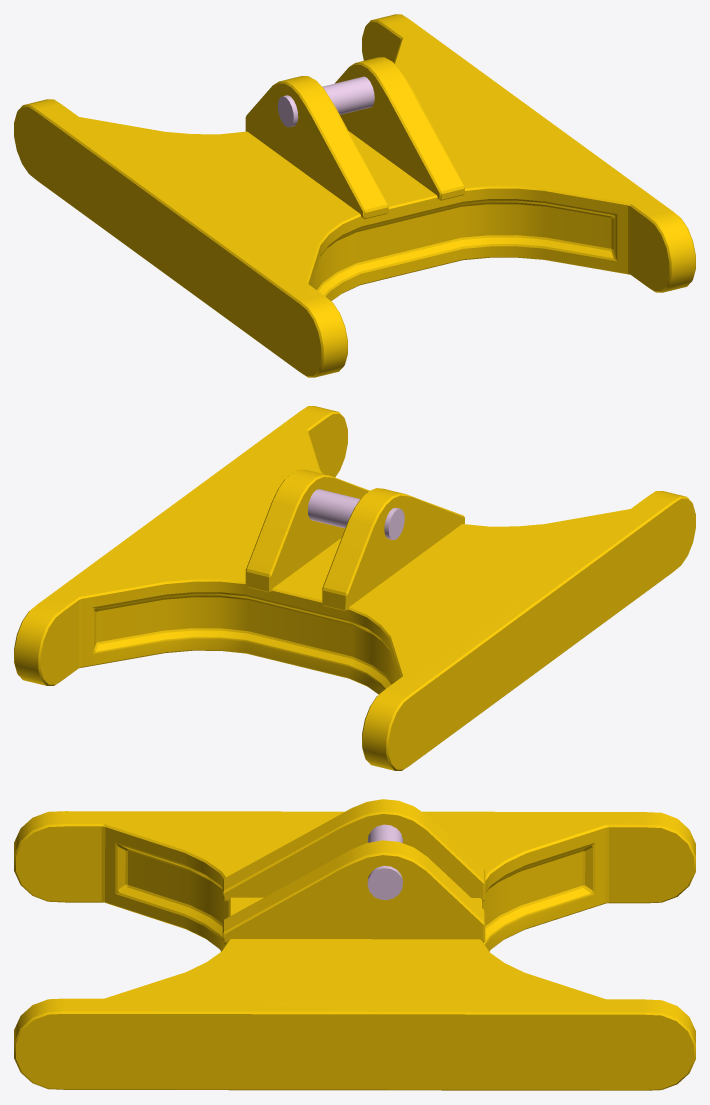
The model's file is Earthmover_Body_RipperPartA_01a_snaps005.fbx.
3 views of the same model, one above another, from view 1: azimuth 30°, elevation 25°; view 2: azimuth 150°, elevation 25°; view 3: azimuth 270°, elevation 25° (orthographic). The views are drawn at different scales.
Parts seen in each view (by area): view 1: Earthmover_Body_06a_snaps005; view 2: Earthmover_Body_06a_snaps005; view 3: Earthmover_Body_06a_snaps005.
Part boxes in pixels (x1,y1,x2,y2): Earthmover_Body_06a_snaps005: [14, 14, 695, 377]; Earthmover_Body_06a_snaps005: [14, 406, 695, 770]; Earthmover_Body_06a_snaps005: [14, 799, 695, 1090].
Bounding box in the file's own units: 101 × 38.48 × 144.
